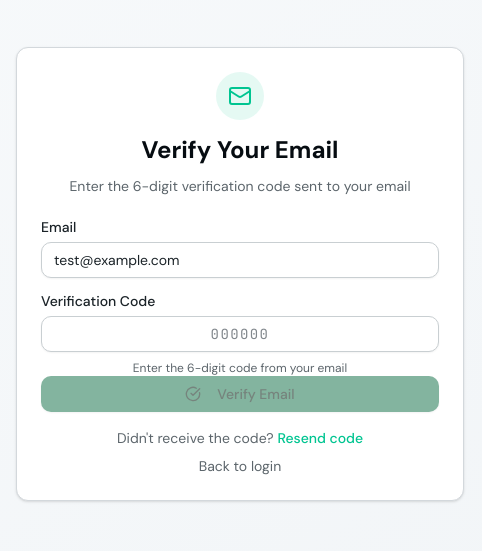
Scenario: VerifyEmail Page › Error Handling › shows error for invalid verification code
This screenshot has width=482, height=551.
Type "123456" into the field labelled "Verification Code" at point(240, 334), box [41,316,439,352]
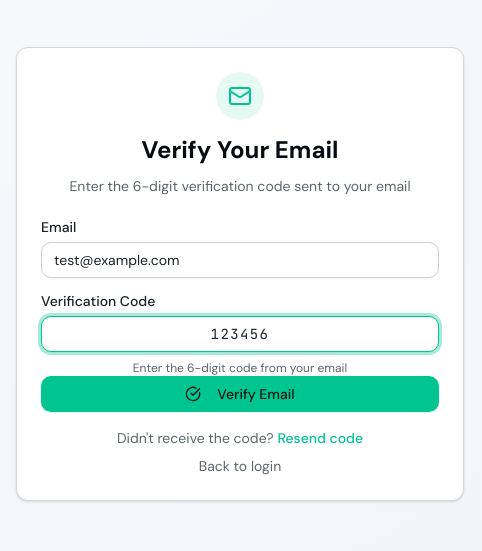
Click the button "Verify Email" at point(240, 394), box [41,376,439,412]
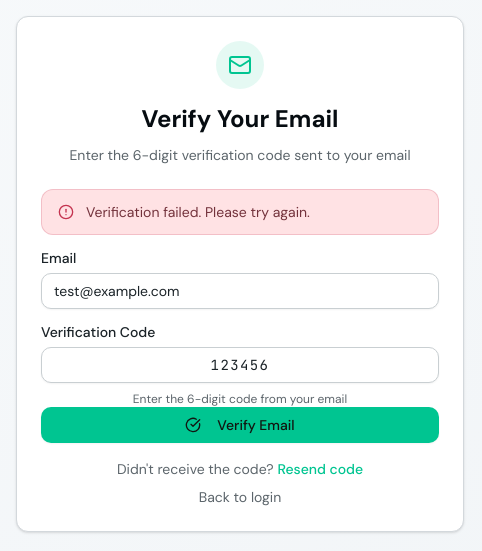
Check: the text "Verification failed. Please try again." is shown, box [86,203,310,221]
